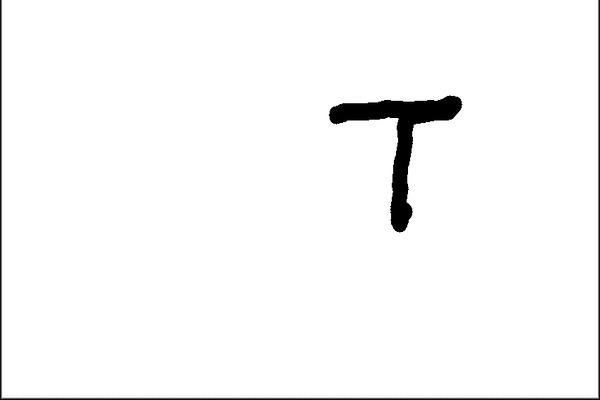T: (316, 83, 466, 233)
